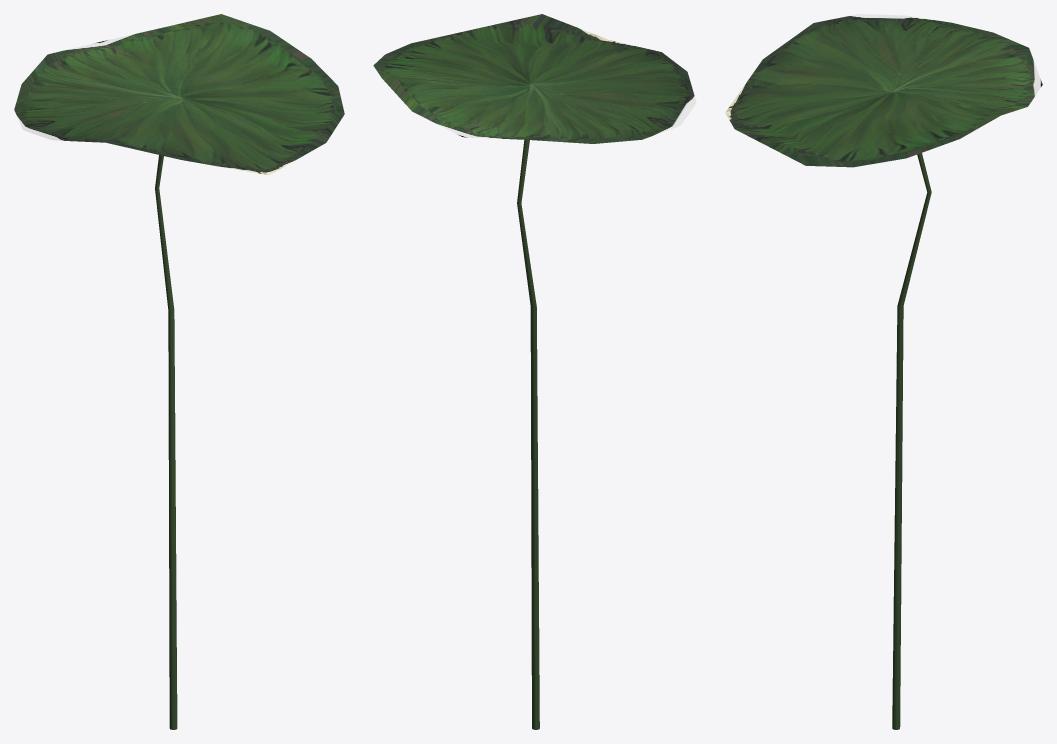
The model's file is pond_leaf02.glb.
3 views of the same model, side by side, from view 1: azimuth 30°, elevation 25°; view 2: azimuth 150°, elevation 25°; view 3: azimuth 270°, elevation 25° (orthographic).
Visible parts, largest first — view 1: leaf_02_Plants_0; view 2: leaf_02_Plants_0; view 3: leaf_02_Plants_0.
Boxes of the visible parts, <box> form: leaf_02_Plants_0: <box>14,14,344,729</box>; leaf_02_Plants_0: <box>373,14,696,729</box>; leaf_02_Plants_0: <box>725,14,1042,729</box>.
Bounding box in the file's own units: 0.5944 × 1.28 × 0.5552.
1 material, 1 textured.
